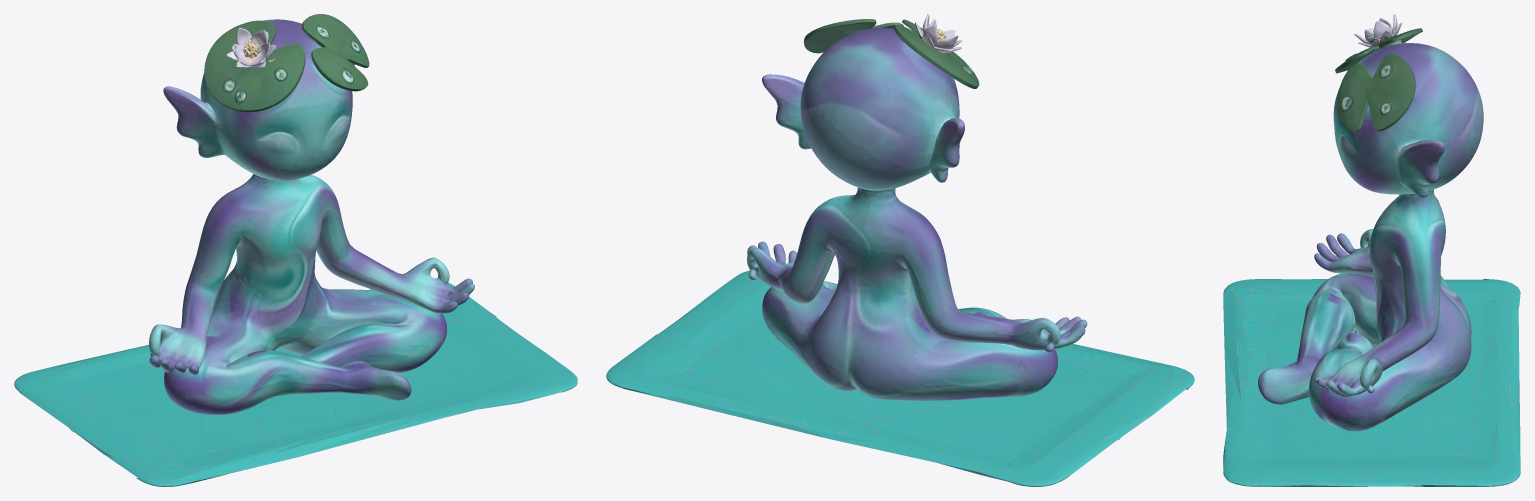
The model's file is yg-spirit.glb.
3 views of the same model, side by side, from view 1: azimuth 30°, elevation 25°; view 2: azimuth 150°, elevation 25°; view 3: azimuth 270°, elevation 25° (orthographic). The views are drawn at different scales.
Visible parts, largest first — view 1: output_unwrapped; view 2: output_unwrapped; view 3: output_unwrapped.
Boxes of the visible parts, x1=… form: output_unwrapped: x1=14, y1=14, x2=577, y2=486; output_unwrapped: x1=606, y1=14, x2=1194, y2=486; output_unwrapped: x1=1223, y1=14, x2=1520, y2=486.
Size of the model in its own units: 1.9 by 1.51 by 1.16.
Materials: 1 (1 with a texture image).
